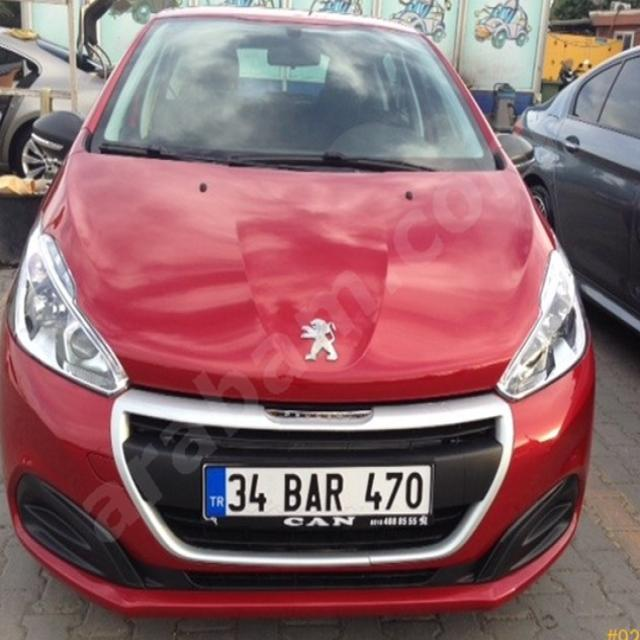license_plate: (203, 462, 432, 517)
